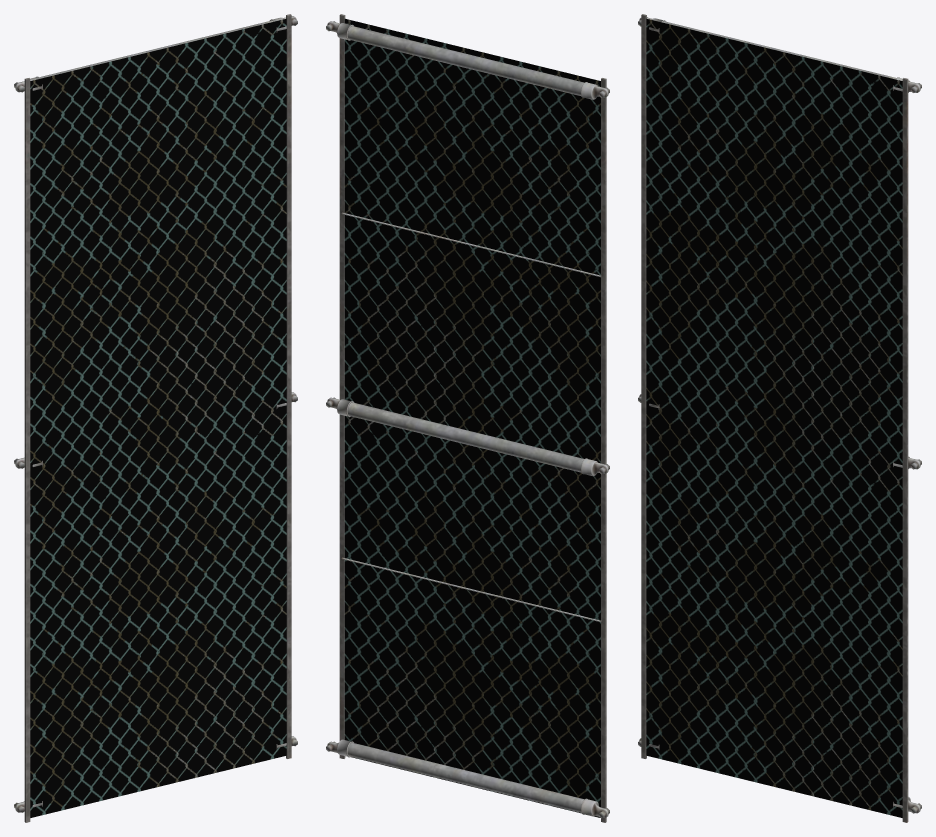
Rendered from tel_cit_1m.gltf.
The picture shows the model from 3 angles, left to right: view 1: azimuth 30°, elevation 25°; view 2: azimuth 150°, elevation 25°; view 3: azimuth 330°, elevation 25°; orthographic projection.
Visible parts, largest first — view 1: tel_cit_1m; view 2: tel_cit_1m; view 3: tel_cit_1m.
Part boxes in pixels (x1,y1,x2,y2): tel_cit_1m: [14, 14, 297, 822]; tel_cit_1m: [326, 14, 609, 822]; tel_cit_1m: [638, 14, 921, 822].
Size of what is drawn, in the model's own units: 0.9341 by 2.37 by 0.0486.
2 materials, 2 textured.
